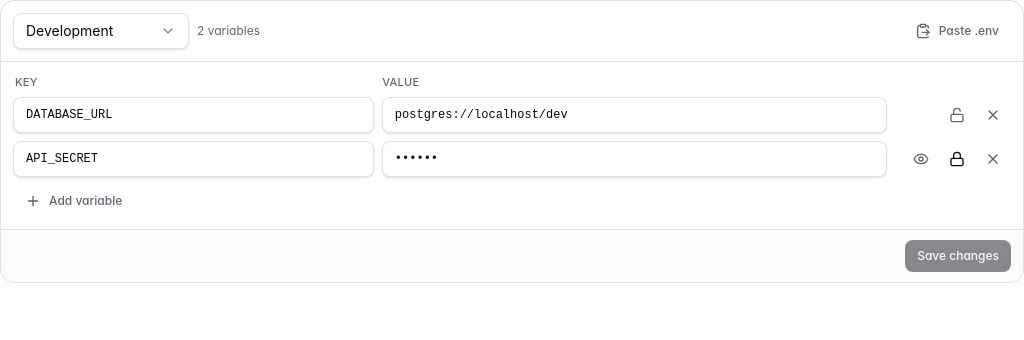
Test case: EnvVariablesEditor › flags duplicate keys and blocks saving
The width and height of the screenshot is (1024, 340).
Replace the text in the field named "Key 2" with "DATABASE_URL" at (193, 158), box [13,140,374,176]
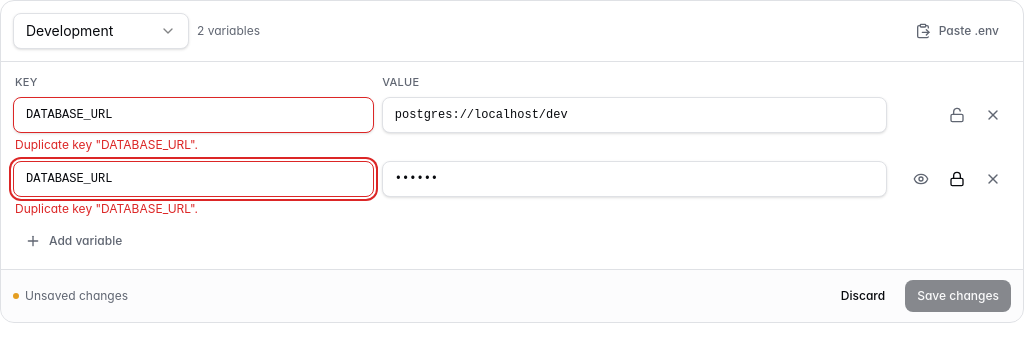
Expected: the button "Save changes" is disabled, [905,280,1011,312]
Expected: the text "Duplicate key \"DATABASE_URL\"." is shown 2 times, [15,136,198,152]; [15,200,198,216]
